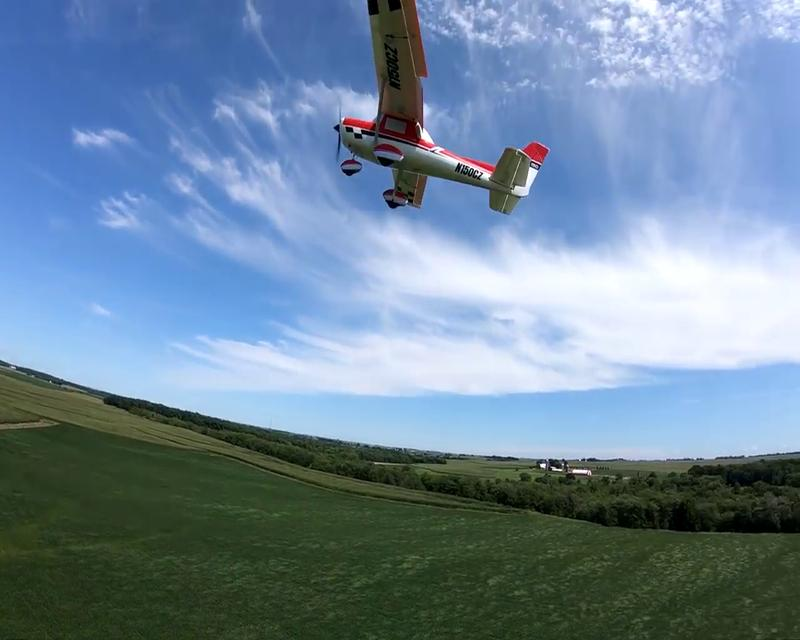UAV: (335, 1, 550, 216)
